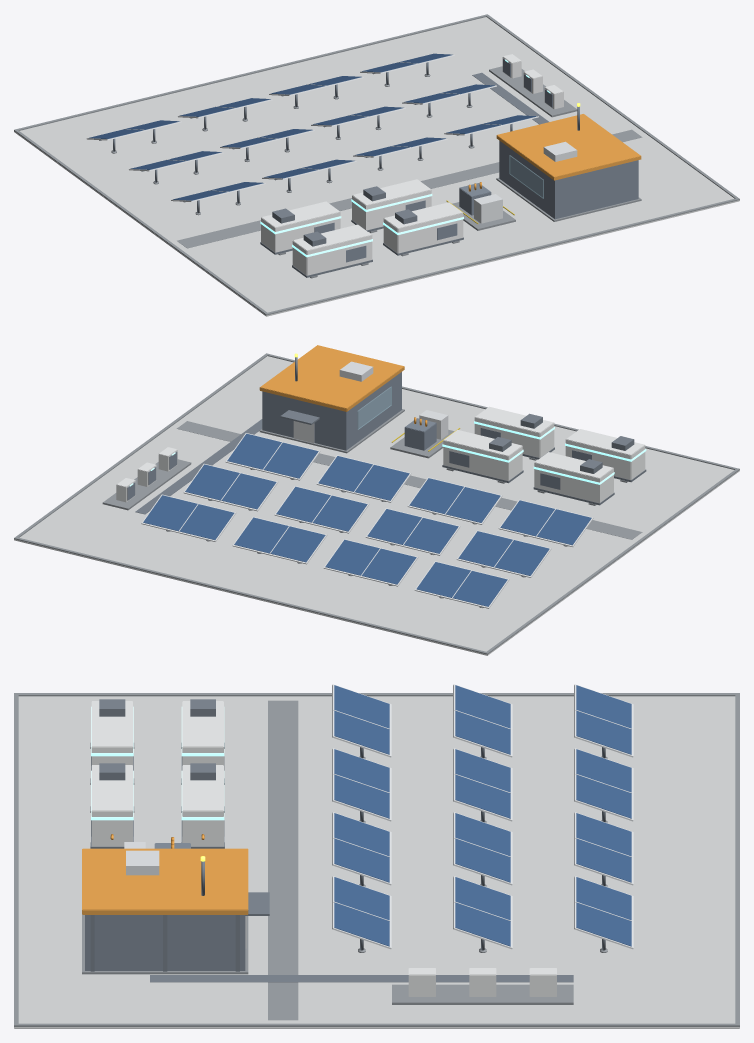
File: l_energy_microgrid.glb
The picture shows the model from 3 angles, top to bottom: view 1: azimuth 30°, elevation 25°; view 2: azimuth 150°, elevation 25°; view 3: azimuth 270°, elevation 25°; orthographic projection. The views are drawn at different scales.
Visible parts, largest first — view 1: L_Pad, L_EMS_Body, L_EMS_Trim, L_BESS_Body_4, L_BESS_Body_2, L_Walkway_EW, L_BESS_Body_3, L_BESS_Body_1, L_Curb_S, L_Curb_N, L_Curb_W, L_Curb_E (+7 smaller); view 2: L_Pad, L_EMS_Trim, L_EMS_Body, L_BESS_Body_3, L_BESS_Body_1, L_PV_Cell_0_2, L_PV_Cell_0_3, L_PV_Cell_2_2, L_PV_Cell_2_3, L_PV_Cell_0_0, L_PV_Cell_0_1, L_PV_Cell_2_0 (+17 smaller); view 3: L_Pad, L_EMS_Trim, L_Walkway_EW, L_EMS_Body, L_BESS_Body_3, L_PV_Cell_0_0, L_PV_Cell_1_0, L_PV_Cell_2_0, L_PV_Cell_0_1, L_PV_Cell_0_2, L_PV_Cell_0_3, L_PV_Cell_1_1 (+19 smaller).
Boxes of the visible parts, x1,y1,x2,y2 form: L_Pad: (14, 17, 739, 316); L_EMS_Body: (499, 140, 638, 219); L_EMS_Trim: (496, 114, 641, 180); L_BESS_Body_4: (383, 202, 463, 253); L_BESS_Body_2: (292, 224, 372, 275); L_Walkway_EW: (177, 129, 642, 248); L_BESS_Body_3: (352, 179, 431, 230); L_BESS_Body_1: (261, 201, 340, 252); L_Curb_S: (264, 198, 739, 315); L_Curb_N: (14, 14, 488, 131); L_Curb_W: (15, 130, 266, 313); L_Curb_E: (486, 15, 737, 198); L_Pad: (14, 356, 739, 655); L_EMS_Trim: (259, 345, 404, 411); L_EMS_Body: (262, 372, 401, 450); L_BESS_Body_3: (443, 430, 522, 480); L_BESS_Body_1: (534, 452, 613, 503); L_PV_Cell_0_2: (234, 517, 325, 562); L_PV_Cell_0_3: (143, 495, 234, 539); L_PV_Cell_2_2: (318, 456, 409, 500); L_PV_Cell_2_3: (227, 433, 318, 478); L_PV_Cell_0_0: (416, 562, 507, 606); L_PV_Cell_0_1: (325, 539, 416, 584); L_PV_Cell_2_0: (500, 500, 591, 545); L_Pad: (14, 696, 739, 1028); L_EMS_Trim: (82, 848, 248, 914); L_Walkway_EW: (268, 700, 298, 1020); L_EMS_Body: (85, 915, 245, 970); L_BESS_Body_3: (182, 765, 223, 846); L_PV_Cell_0_0: (576, 685, 631, 754); L_PV_Cell_1_0: (455, 685, 510, 754); L_PV_Cell_2_0: (334, 685, 389, 754); L_PV_Cell_0_1: (576, 749, 631, 818); L_PV_Cell_0_2: (576, 813, 631, 882); L_PV_Cell_0_3: (576, 877, 631, 946); L_PV_Cell_1_1: (455, 749, 510, 818).
Size of the model in its own units: 52 by 7.65 by 48.
